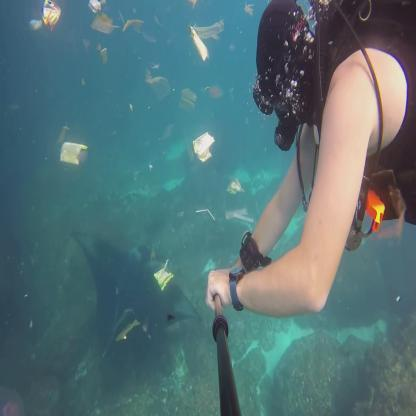Rác: (187, 17, 224, 60), (54, 132, 92, 168), (191, 132, 220, 178), (26, 1, 68, 26), (144, 68, 172, 102), (220, 205, 259, 224), (87, 10, 116, 35), (192, 200, 216, 224), (226, 174, 248, 200), (122, 13, 148, 34), (156, 265, 176, 291), (174, 82, 194, 107), (240, 1, 254, 16)
